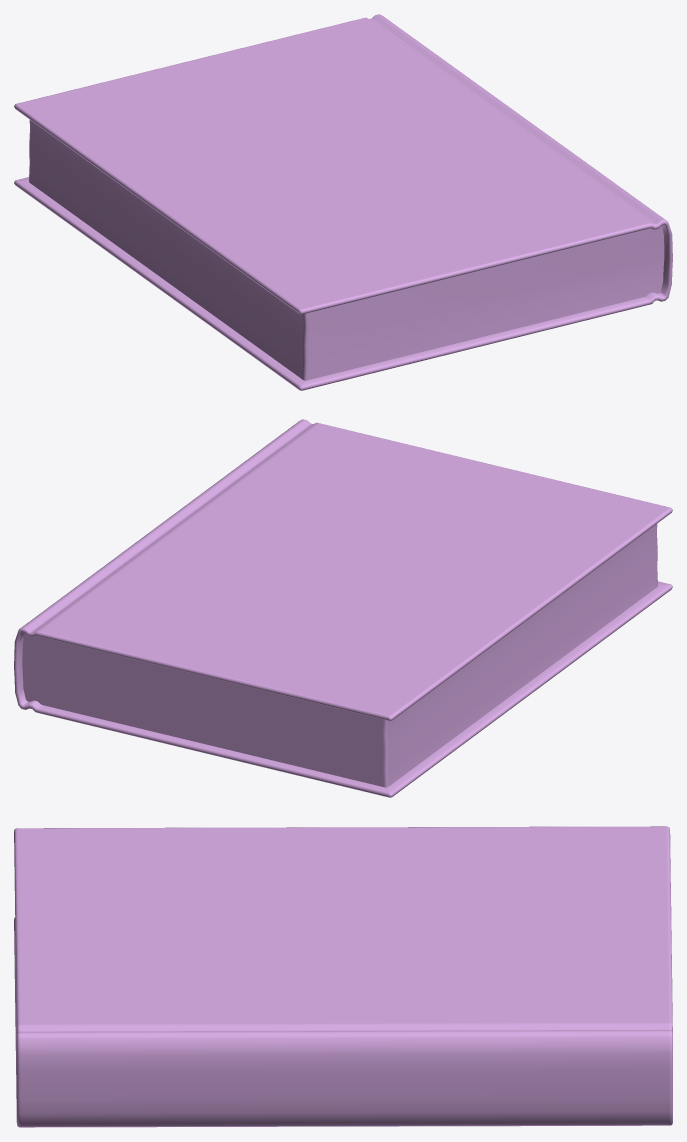
The model's file is buch2.glb.
3 renders of one model, top to bottom at view 1: azimuth 30°, elevation 25°; view 2: azimuth 150°, elevation 25°; view 3: azimuth 270°, elevation 25°, orthographic. The views are drawn at different scales.
Visible parts, largest first — view 1: Blue story book; view 2: Blue story book; view 3: Blue story book.
Boxes of the visible parts, box(x1,y1,x2,y2) form: Blue story book: box(14, 14, 672, 390); Blue story book: box(14, 419, 672, 797); Blue story book: box(14, 826, 672, 1127).
Bounding box in the file's own units: 0.1731 × 0.0355 × 0.2263.
